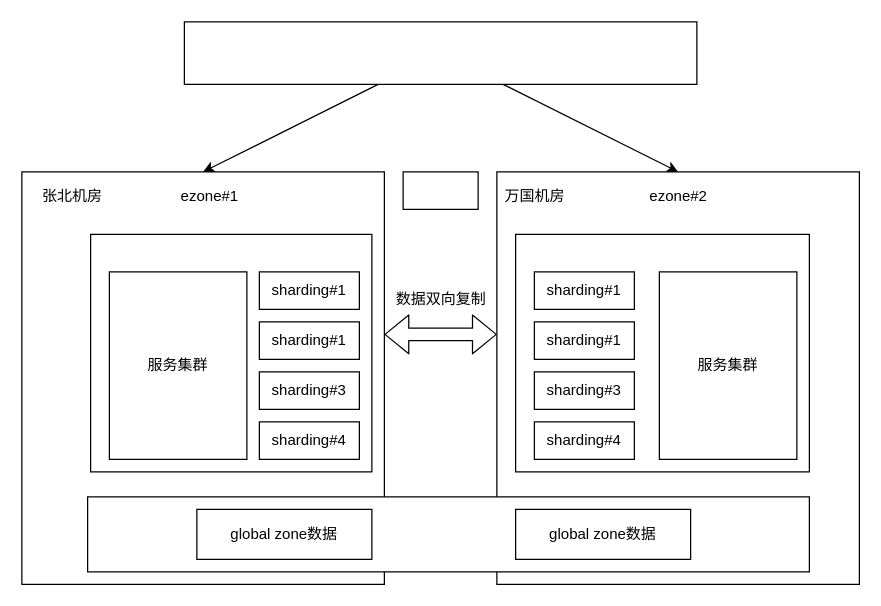
Image size: 881x606. Some labels were removed from this diagram. Each missing label, with the box of its shape:
GZS: (402, 171, 478, 209)
云端流量路由器 API Router: (183, 21, 697, 84)
强一致数据区: (86, 496, 809, 572)
